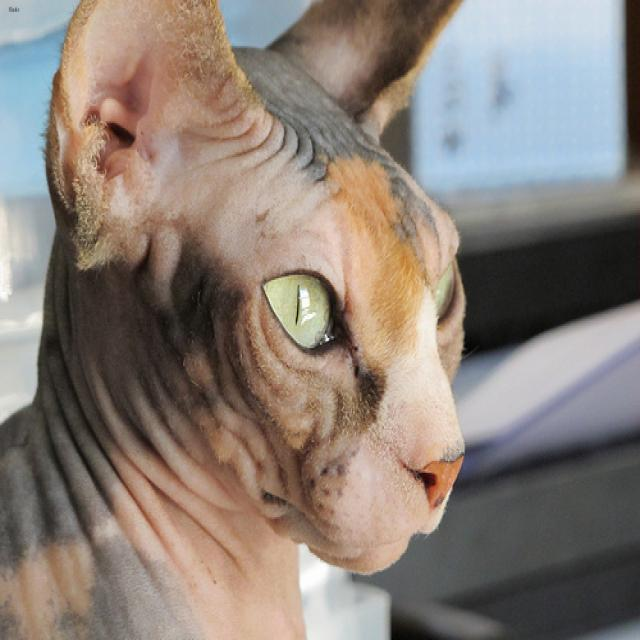Sphynx: (45, 0, 473, 581)
